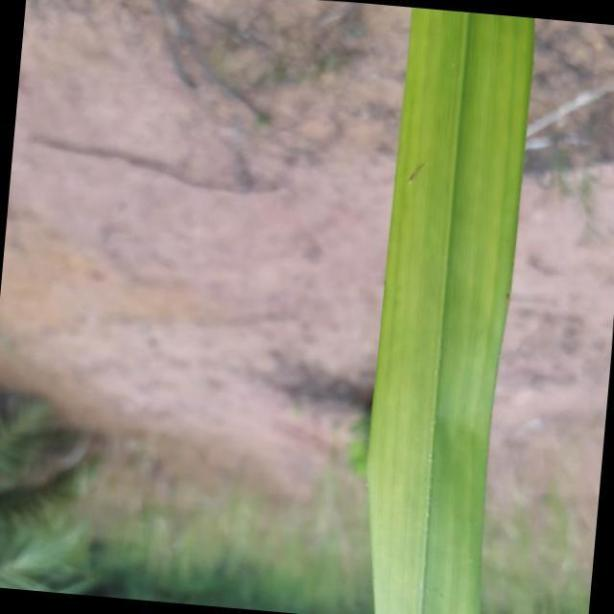nitrogen: (366, 0, 536, 614)
